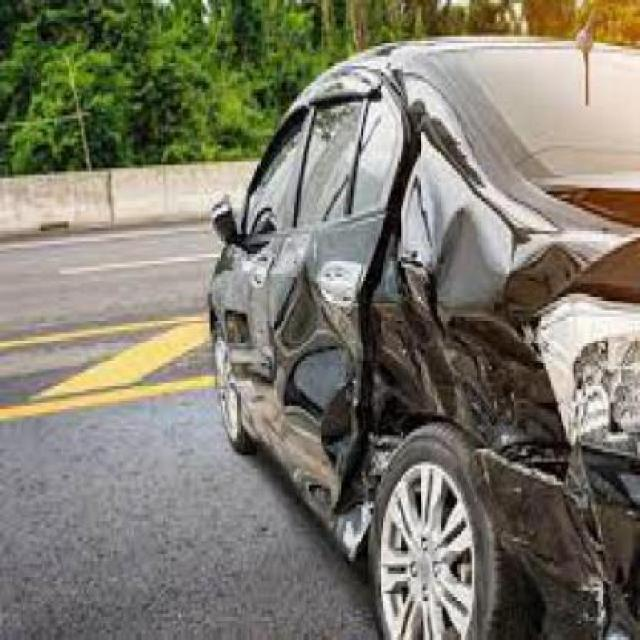Taillight-Damage: (534, 290, 640, 456)
doorouter-dent: (238, 215, 378, 468)
quaterpanel-dent: (380, 133, 530, 459)
